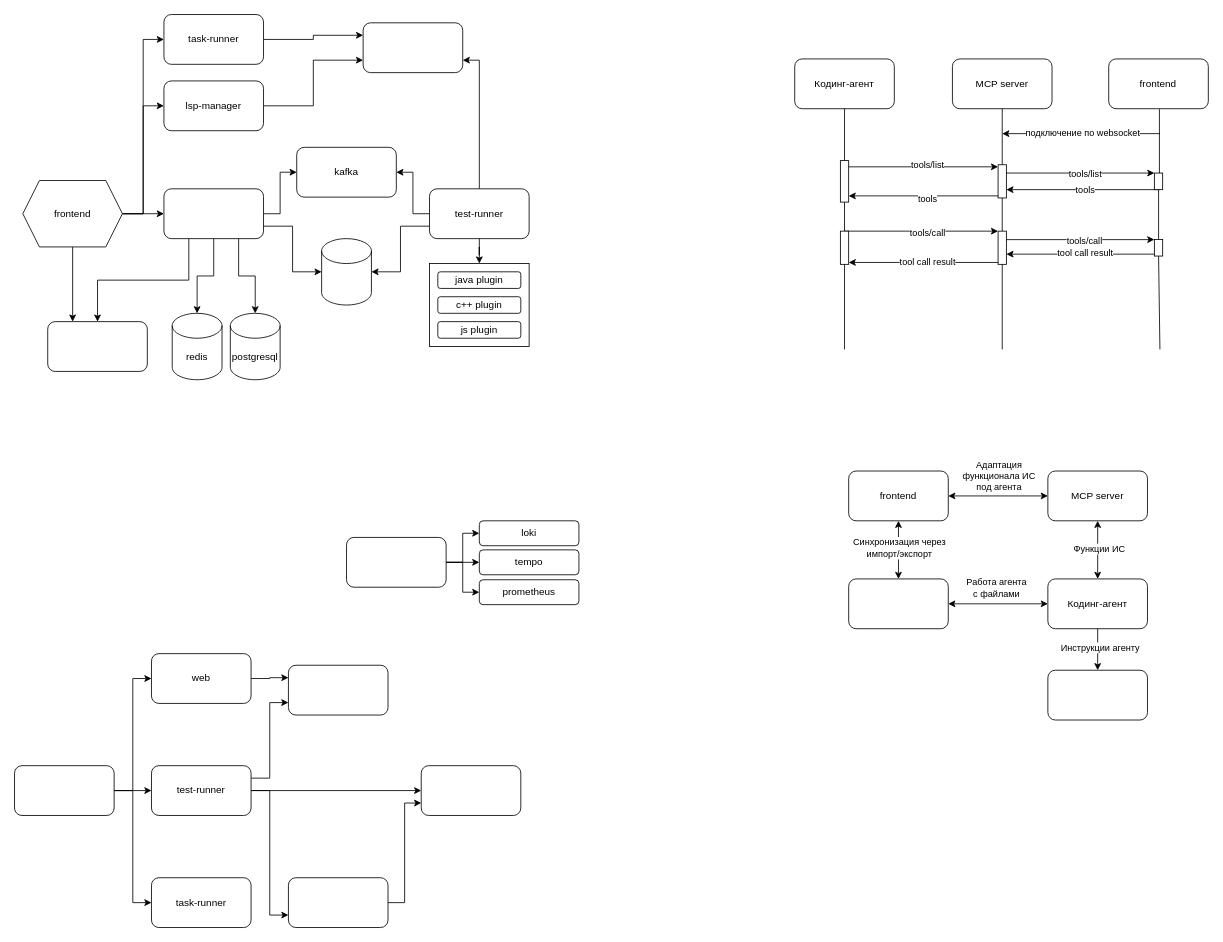
The diagram is 1223 pixels wide and 942 high, and some of its shapes have lost their labels. The centre of each missing label's shape, as x and y in pixels:
Agent Skill по разработке задачи: pixel 1097 694
common-plugins: pixel 338 902
core: pixel 213 213
docker engine: pixel 412 47
grafana: pixel 396 562
keycloak: pixel 97 346
minio: pixel 346 271
plugin-sdk: pixel 470 790
shared: pixel 338 689
supreme-code (root): pixel 64 790
Файловая система: pixel 898 603
